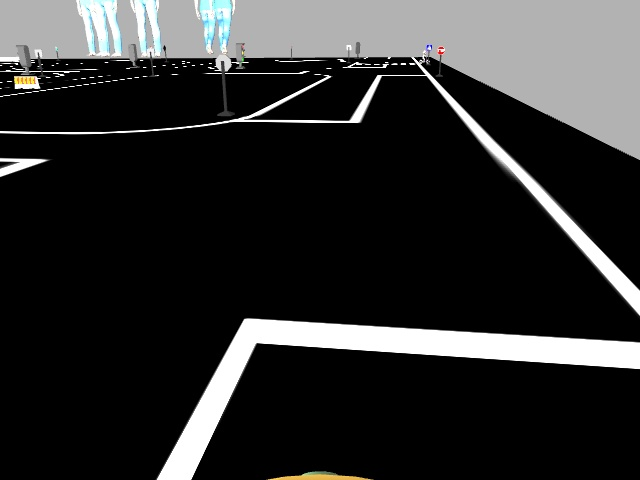ClosedRoadStand: (10, 74, 40, 89)
TrafficLight: (233, 41, 247, 64)
